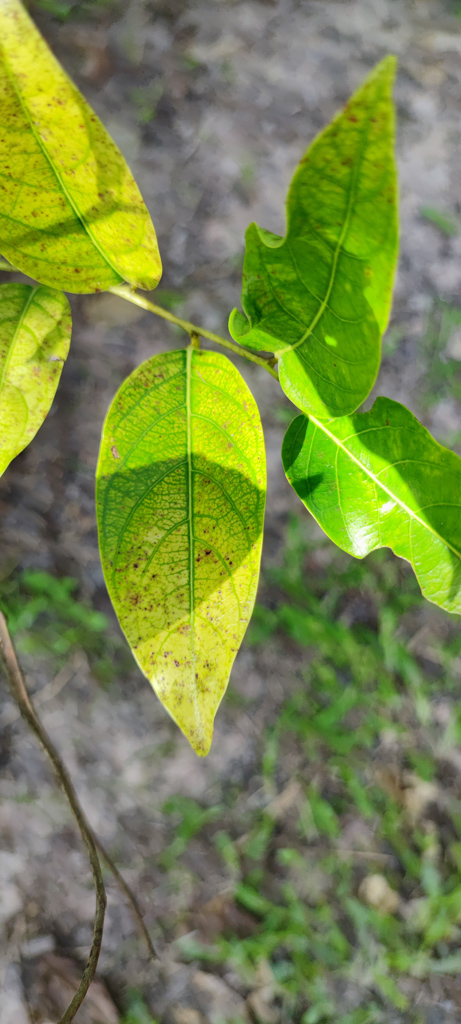Pepper yellow leaf: (101, 345, 270, 762), (2, 294, 84, 484)
Rust: (110, 486, 249, 711), (1, 292, 74, 402)
